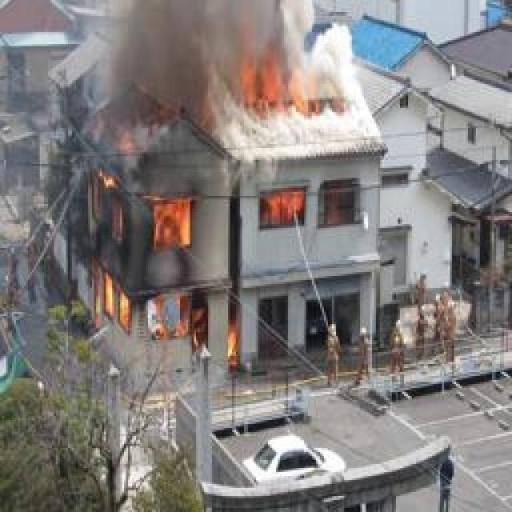smoke: (78, 140, 241, 358), (228, 34, 354, 114), (263, 188, 313, 233)
